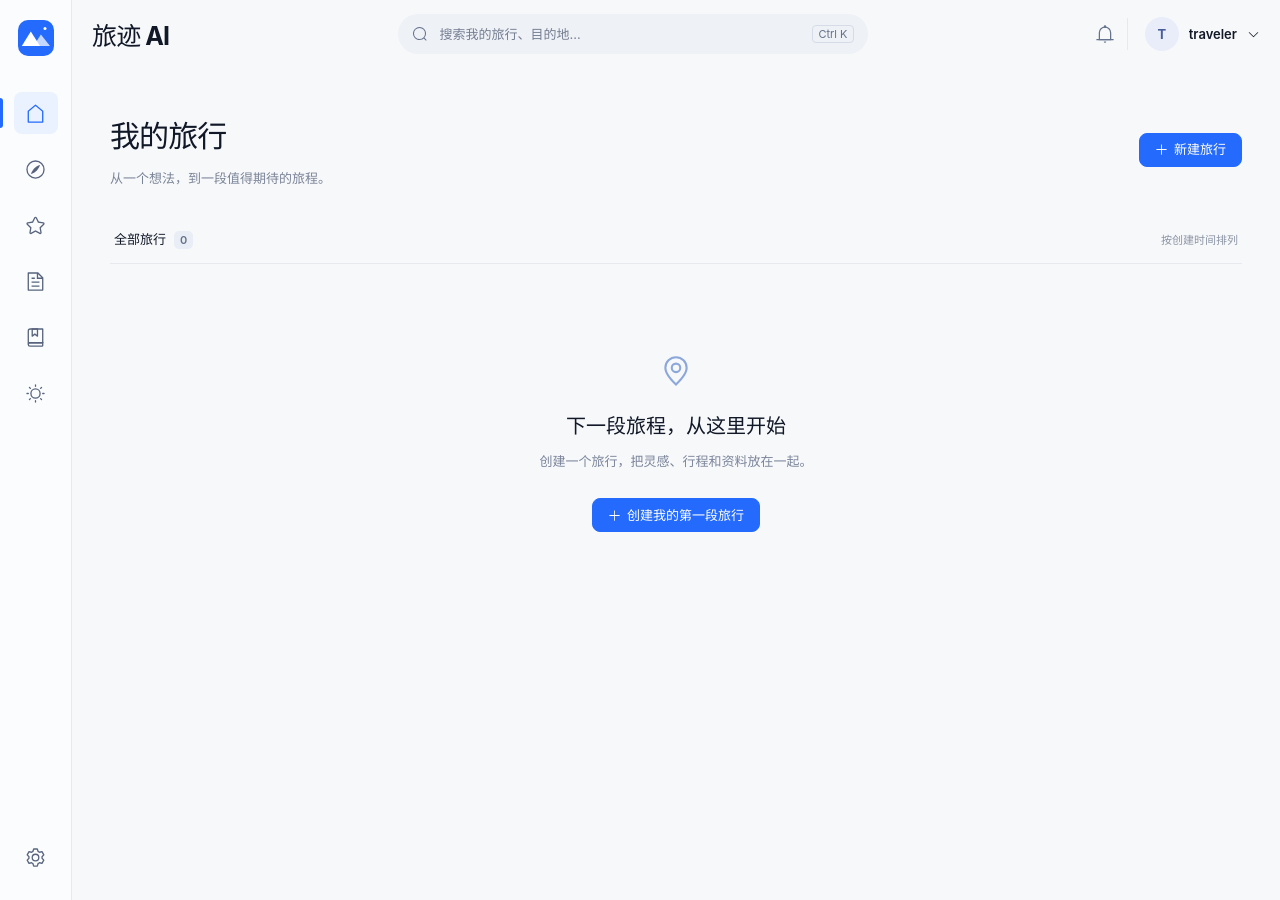
App › signs out from the dashboard and returns to the login screen
The image size is (1280, 900).
Check: the heading "我的旅行" is shown, box x1=110 y1=118 x2=226 y2=154
Click the button named "设置": {"x": 36, "y": 857} x1=14 y1=836 x2=58 y2=878
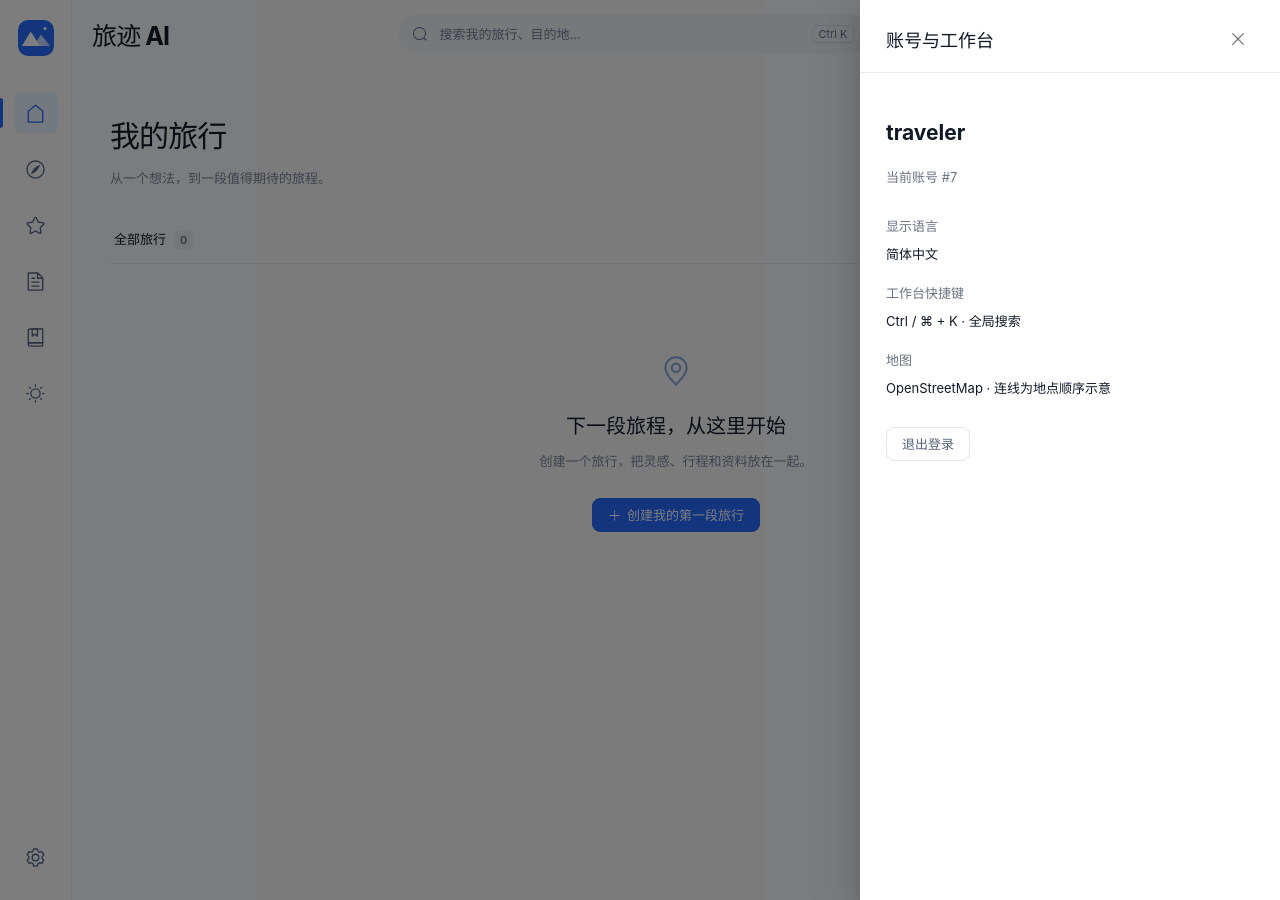
Click the button with aria-label "退出登录": {"x": 928, "y": 444} x1=886 y1=427 x2=970 y2=461
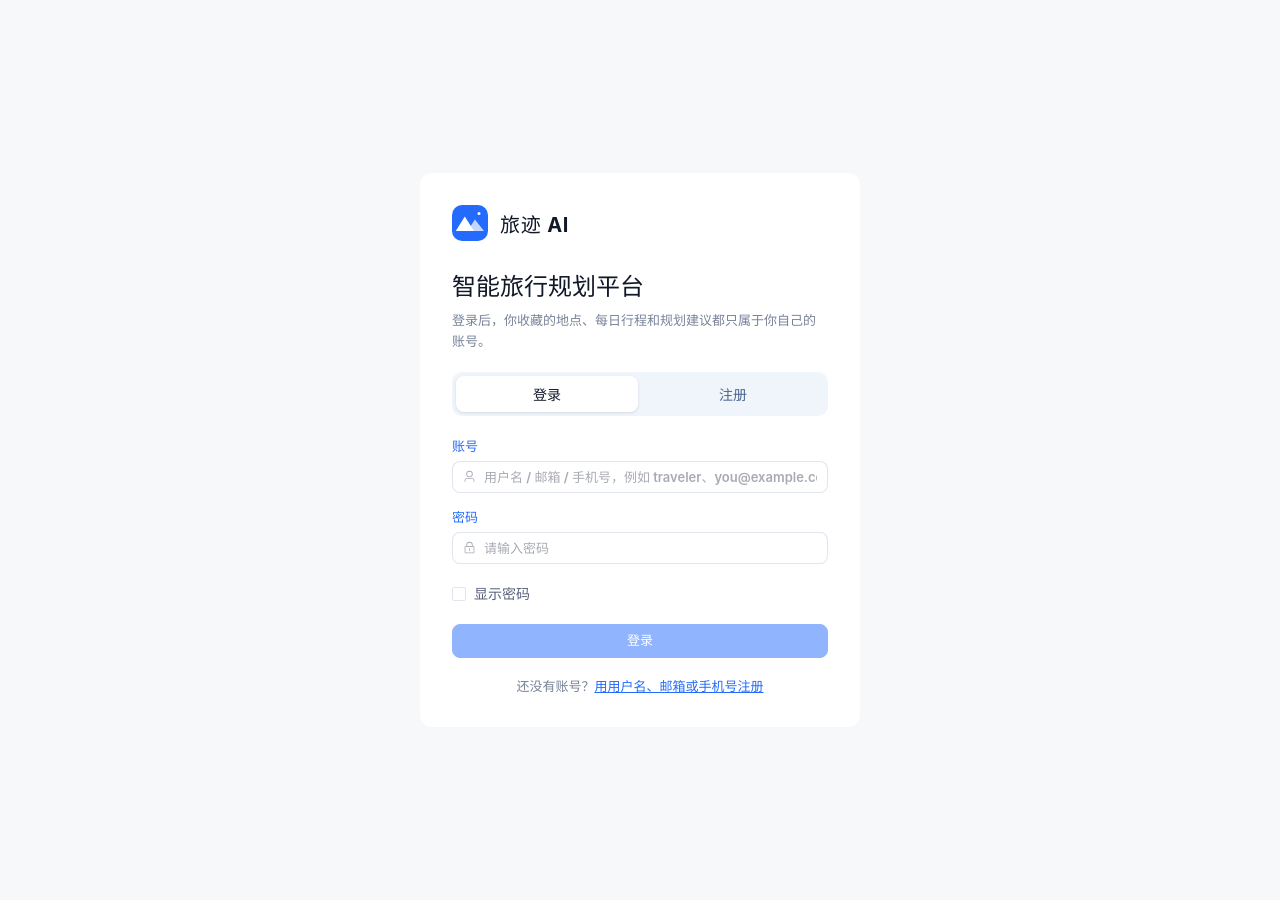
Check: the heading "智能旅行规划平台" is shown, box x1=452 y1=272 x2=644 y2=301
